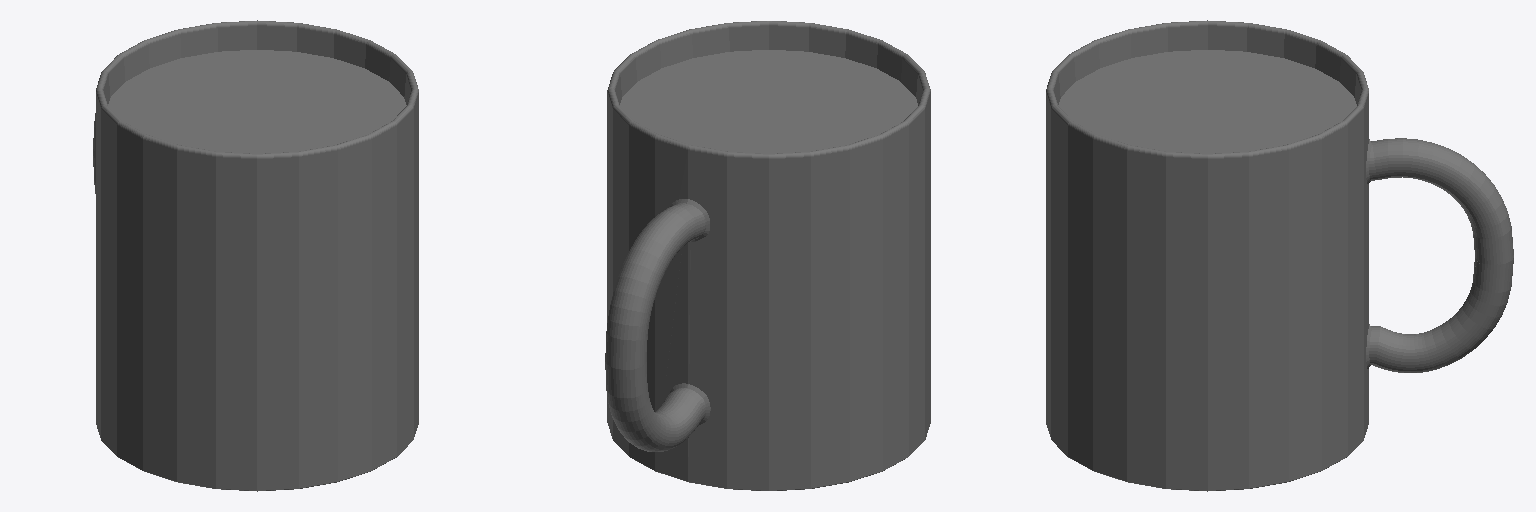
URDF robot description (object):
<?xml version="1.0"?>
<robot name="object">
  <link name="object">
    <visual>
      <origin xyz="0 0 0"/>
      <geometry>
        <mesh
          filename="../../mesh/oakink_virtual/mug_s139.stl" />
      </geometry>
      <material name="mat">
        <color rgba="0.5 0.5 0.5 1"/>
      </material>
    </visual>

    <collision>
      <origin xyz="0 0 0"/>
      <geometry>
        <mesh
          filename="../../mesh/oakink_virtual/mug_s139.stl" />
      </geometry>
    </collision>
  </link>
</robot>

--- What the picture shows (computed from the rendered views, not written in the file) ---
3 views of the same robot in one strip: view 1: azimuth 30°, elevation 25°; view 2: azimuth 150°, elevation 25°; view 3: azimuth 270°, elevation 25° (orthographic).
Robot: object — 1 links, 0 joints (none); root link object; default pose: every joint at zero.
Links seen in each view (by area): view 1: object; view 2: object; view 3: object.
Link boxes in pixels (bbox=[...]): object: bbox=[93, 20, 418, 491]; object: bbox=[605, 21, 930, 490]; object: bbox=[1046, 20, 1513, 491].
Size in the robot's own frame: 0.086 by 0.1244 by 0.0988 metres.
Meshes: 1 distinct files referenced, 1 mesh visuals loaded (1 binary STL).
